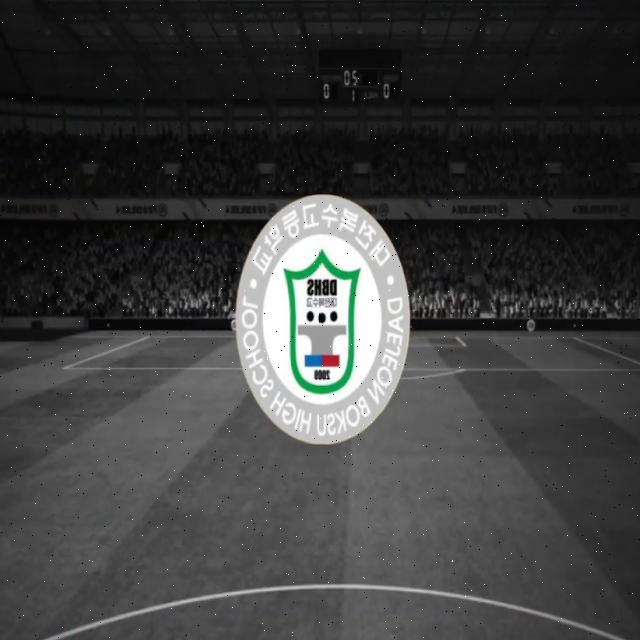logo: (225, 176, 420, 454)
